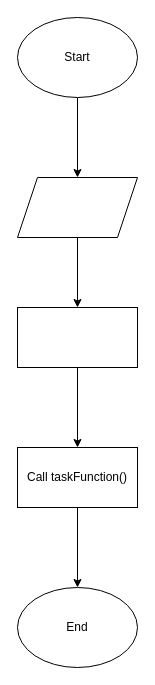
Some shapes in this 155 by 685 pixel diagram are drawn without their labels. Each missing label, with the centre of its shape:
Delete btn click: the point at 77,207
Remove item from array: the point at 77,337
